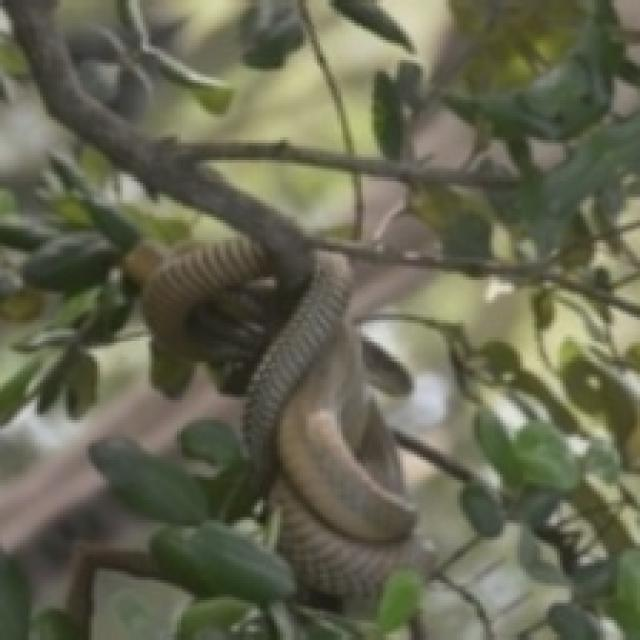king cobra: (243, 251, 414, 594), (143, 240, 269, 357)
